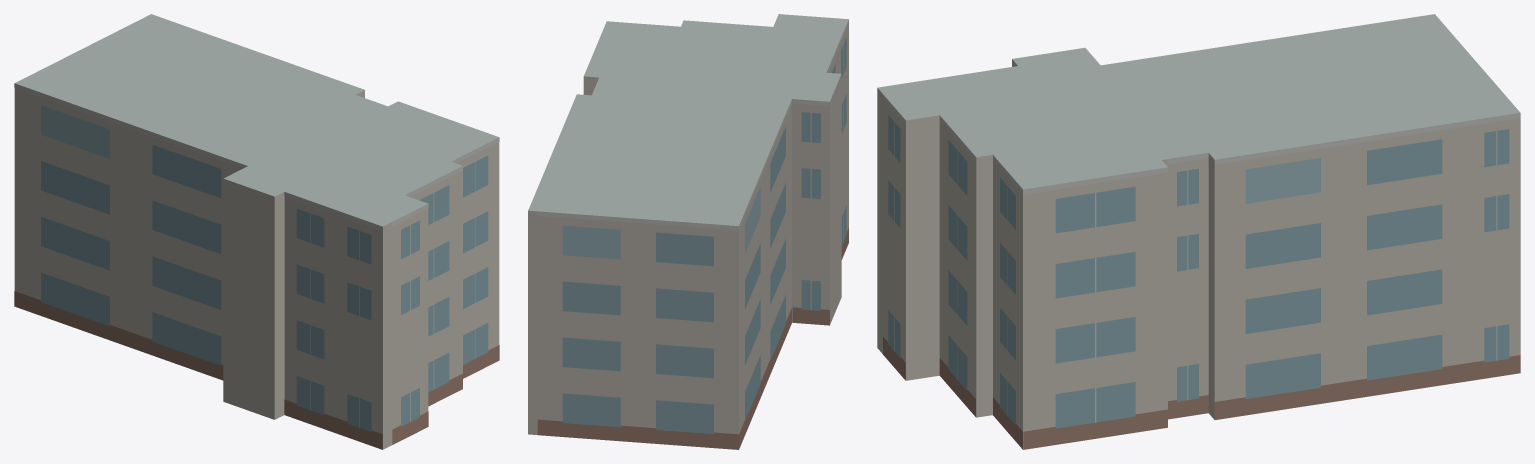
File: survey-upis-32756762.glb
The picture shows the model from 3 angles, left to right: view 1: azimuth 30°, elevation 25°; view 2: azimuth 150°, elevation 25°; view 3: azimuth 270°, elevation 25°; orthographic projection. The views are drawn at different scales.
Parts seen in each view (by area): view 1: survey-upis-32756762.tmp; view 2: survey-upis-32756762.tmp; view 3: survey-upis-32756762.tmp.
Part boxes in pixels (bbox=[...]): survey-upis-32756762.tmp: bbox=[14, 14, 499, 449]; survey-upis-32756762.tmp: bbox=[528, 14, 848, 449]; survey-upis-32756762.tmp: bbox=[877, 14, 1520, 449].
Size of the model in its own units: 17.79 by 12.3 by 27.54.
